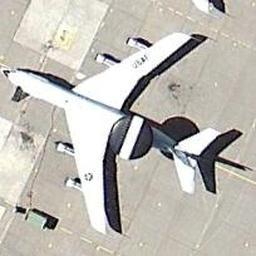Airplane: (0, 30, 225, 231)
